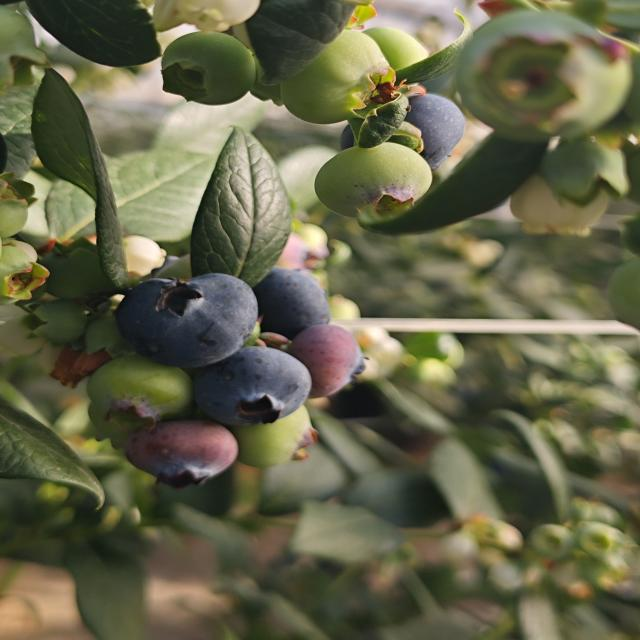ripe: (113, 271, 261, 369), (178, 349, 314, 426), (363, 82, 465, 156), (123, 425, 242, 481), (284, 326, 362, 388), (263, 263, 330, 330)
